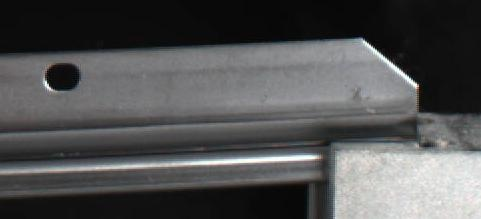cut: (277, 37, 423, 181)
holes: (42, 61, 82, 92)
